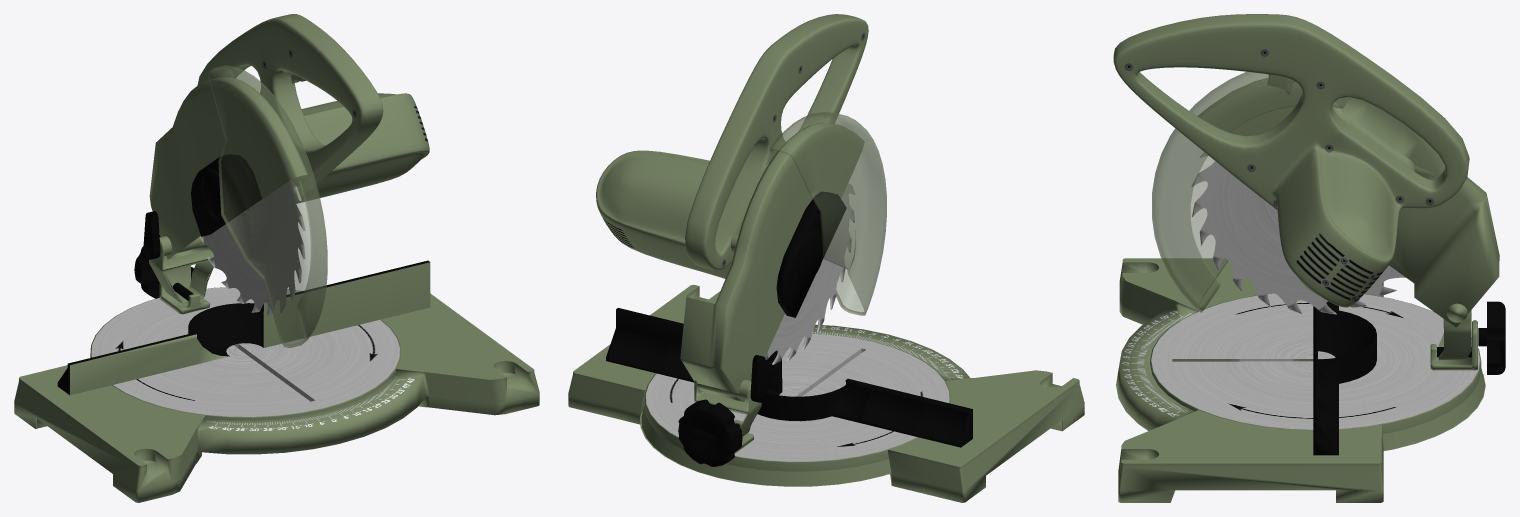
The model's file is Chop saw.FBX.
The picture shows the model from 3 angles, left to right: view 1: azimuth 30°, elevation 25°; view 2: azimuth 150°, elevation 25°; view 3: azimuth 270°, elevation 25°; orthographic projection. The views are drawn at different scales.
Visible parts, largest first — view 1: Table, Arm, Base, BladeGuard, Blade; view 2: Arm, Table, Base, BladeGuard, Blade; view 3: Arm, Table, Base, BladeGuard, Blade.
Boxes of the visible parts, <box> form: Table: <box>57,211,430,420</box>; Arm: <box>149,14,429,259</box>; Base: <box>14,293,539,502</box>; BladeGuard: <box>208,65,327,347</box>; Blade: <box>200,180,305,316</box>; Arm: <box>596,14,868,401</box>; Table: <box>606,308,972,486</box>; Base: <box>568,285,1084,502</box>; BladeGuard: <box>769,111,886,315</box>; Blade: <box>765,183,855,364</box>; Arm: <box>1113,14,1499,327</box>; Table: <box>1150,293,1505,455</box>; Base: <box>1116,258,1485,502</box>; BladeGuard: <box>1152,71,1350,312</box>; Blade: <box>1191,152,1405,314</box>.
Size of the model in its own units: 6.26 by 5.53 by 4.95.
6 materials, 5 textured.
